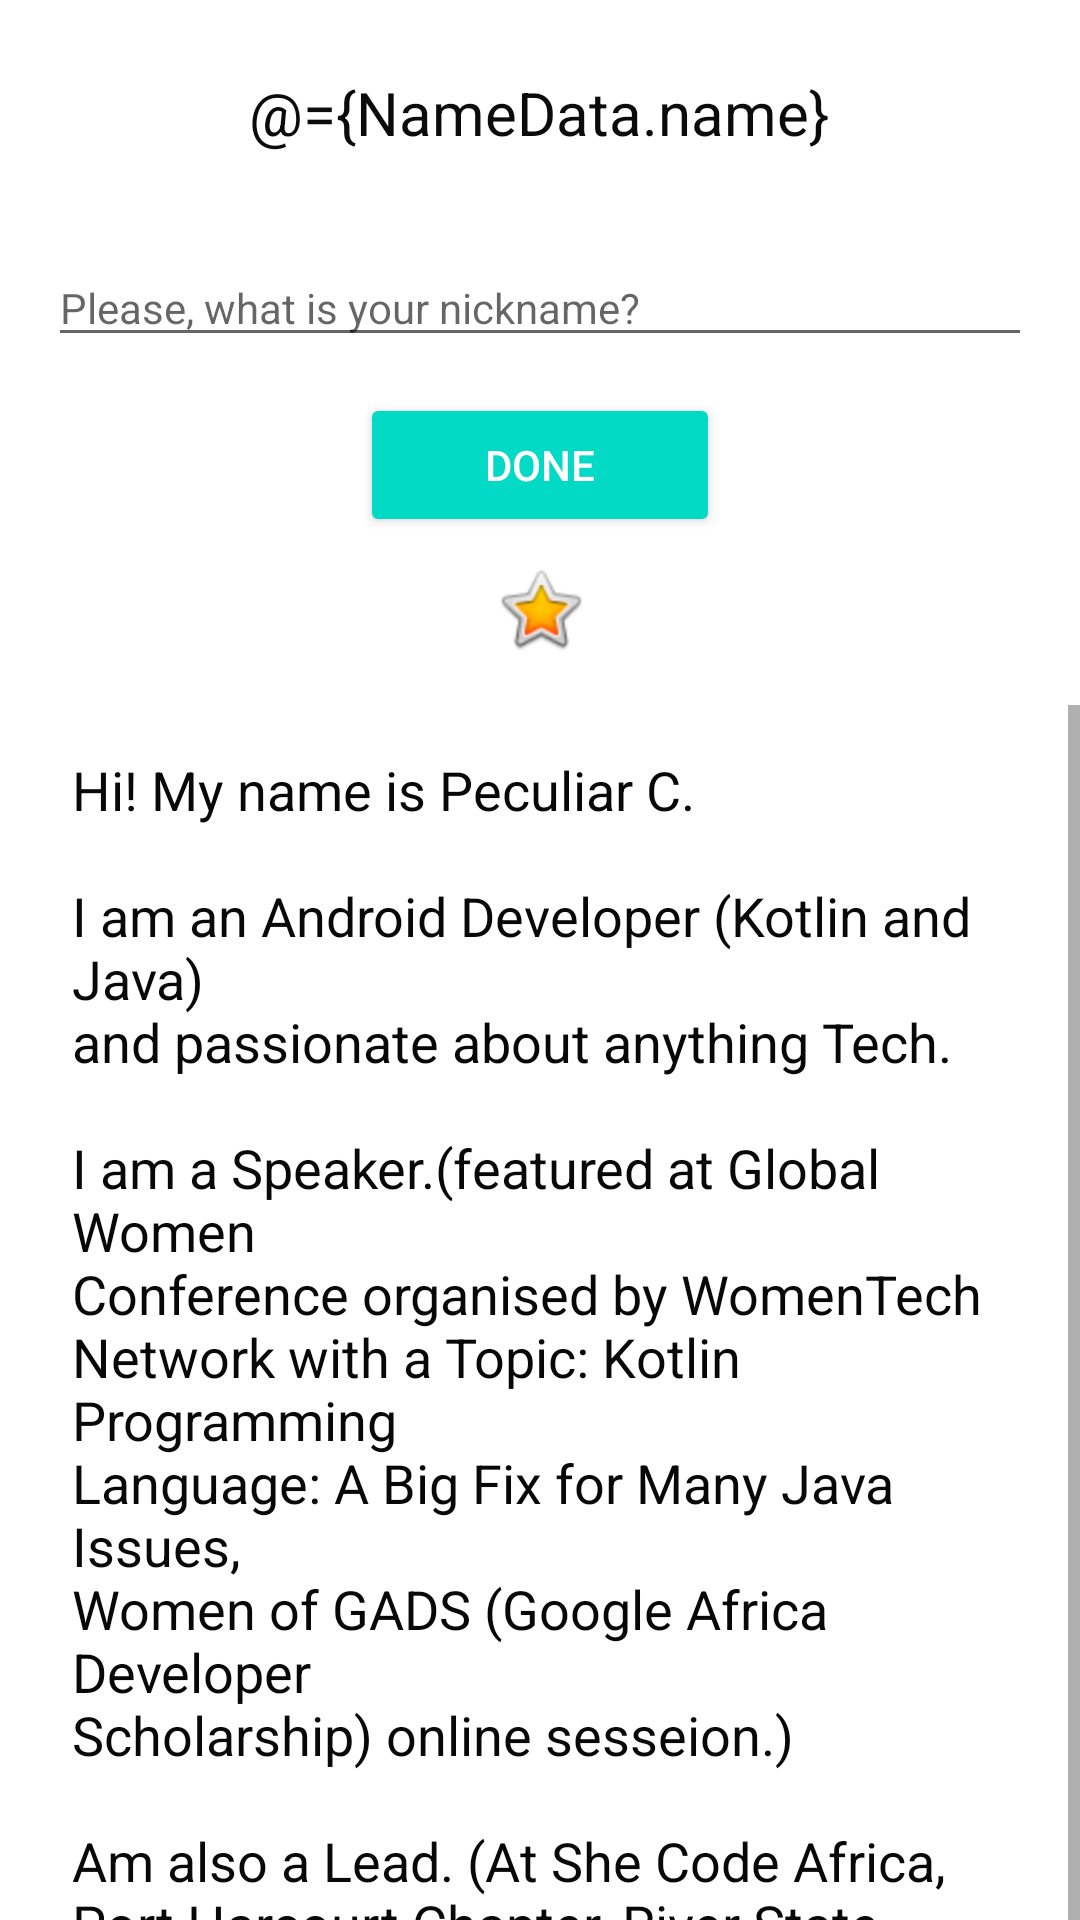

Named icons in this screenshot (1080 x 1920) and their centers, [x,y]:
Yellow Star: [541,610]
